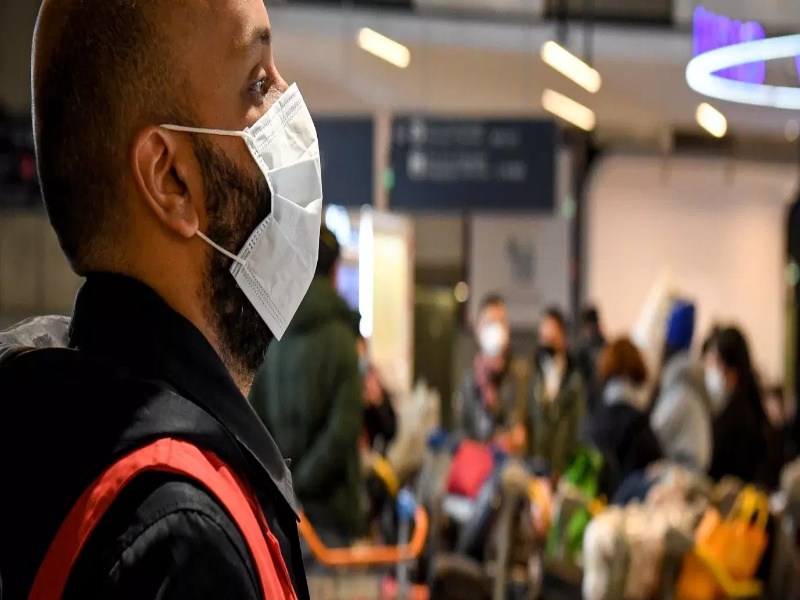ManaoArotava: (122, 14, 383, 369)
